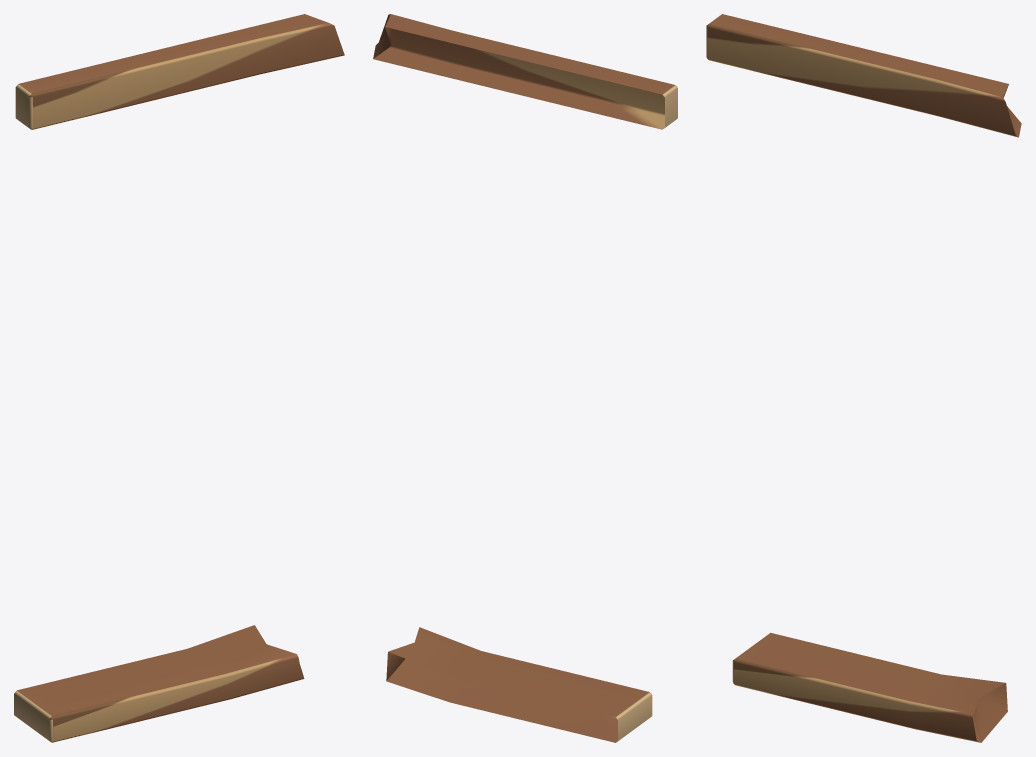
Rendered from DBK_WinBig_Trim_D_Side.fbx.
3 renders of one model, left to right at view 1: azimuth 30°, elevation 25°; view 2: azimuth 150°, elevation 25°; view 3: azimuth 330°, elevation 25°, orthographic. The views are drawn at different scales.
Parts seen in each view (by area): view 1: DBK_WinBig_Trim_D_Side; view 2: DBK_WinBig_Trim_D_Side; view 3: DBK_WinBig_Trim_D_Side.
Part boxes in pixels (box(x1,y1,x2,y2)): DBK_WinBig_Trim_D_Side: box(14, 14, 344, 742); DBK_WinBig_Trim_D_Side: box(373, 14, 677, 742); DBK_WinBig_Trim_D_Side: box(706, 14, 1021, 742).
Bounding box in the file's own units: 116 × 232 × 26.6.
